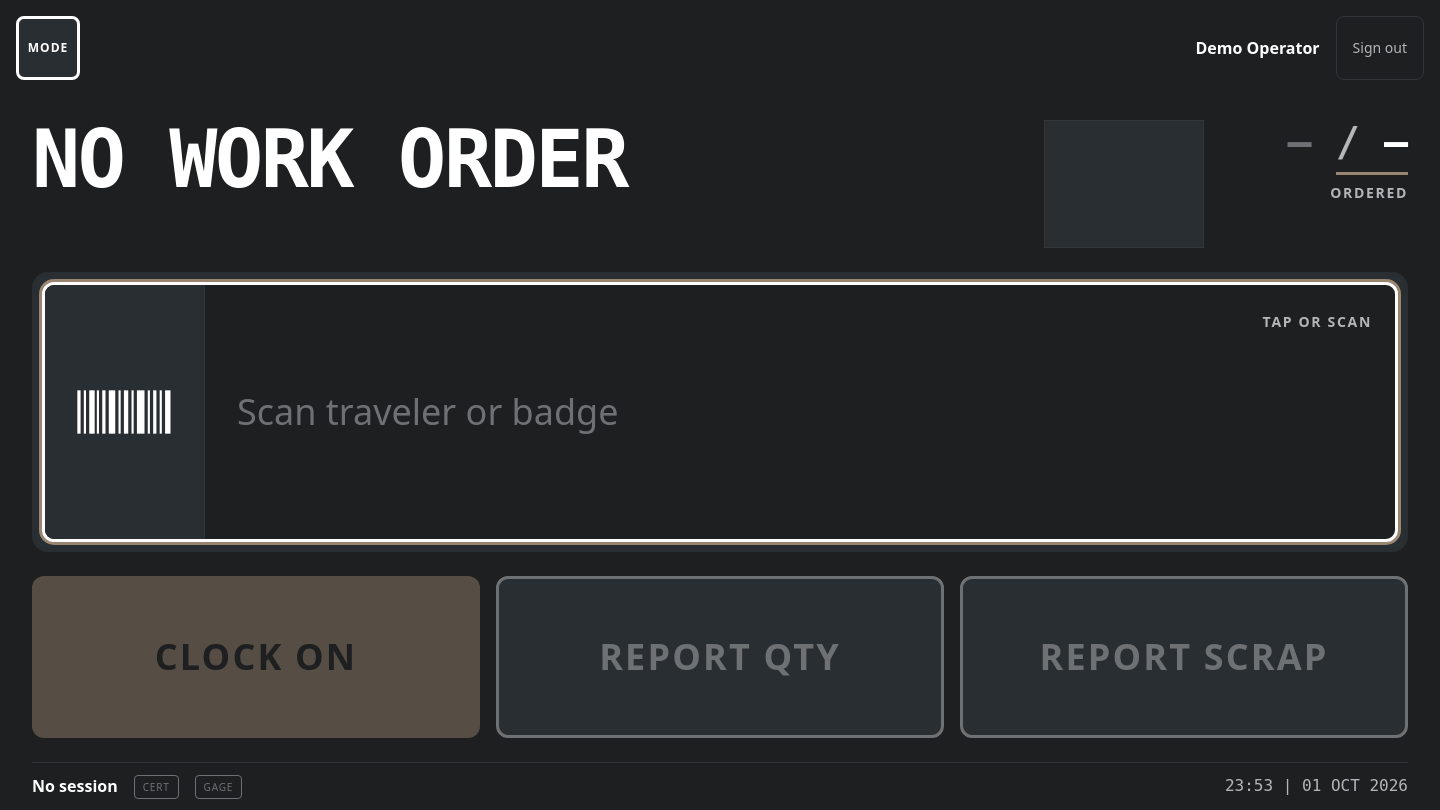
Test: mode chrome › navigates from the floor mode switch to office
The image size is (1440, 810).
Step 1. Click the button "Mode" → (48, 48), box [16, 16, 80, 80]
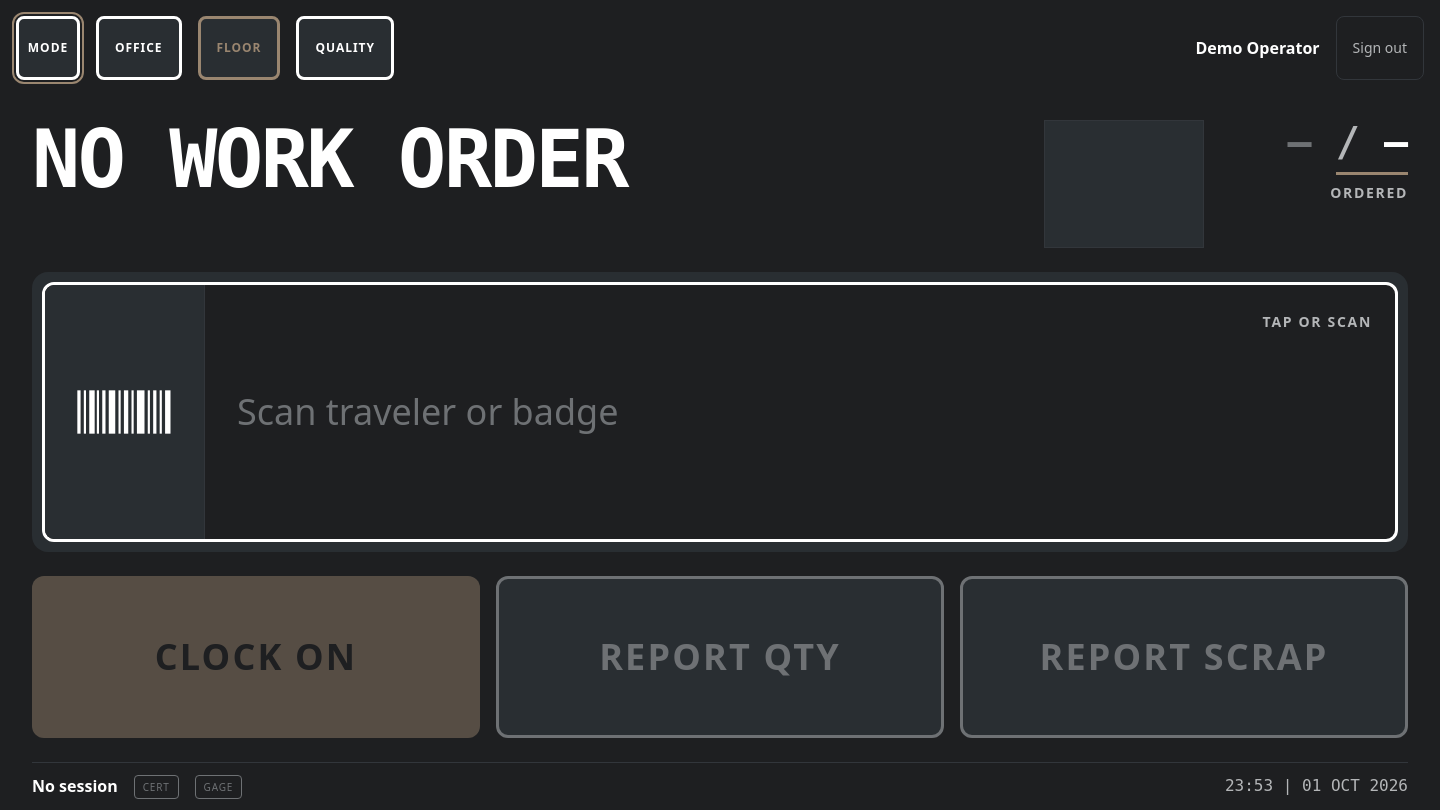
Step 2. Click the link "Office" → (139, 48), box [96, 16, 182, 80]
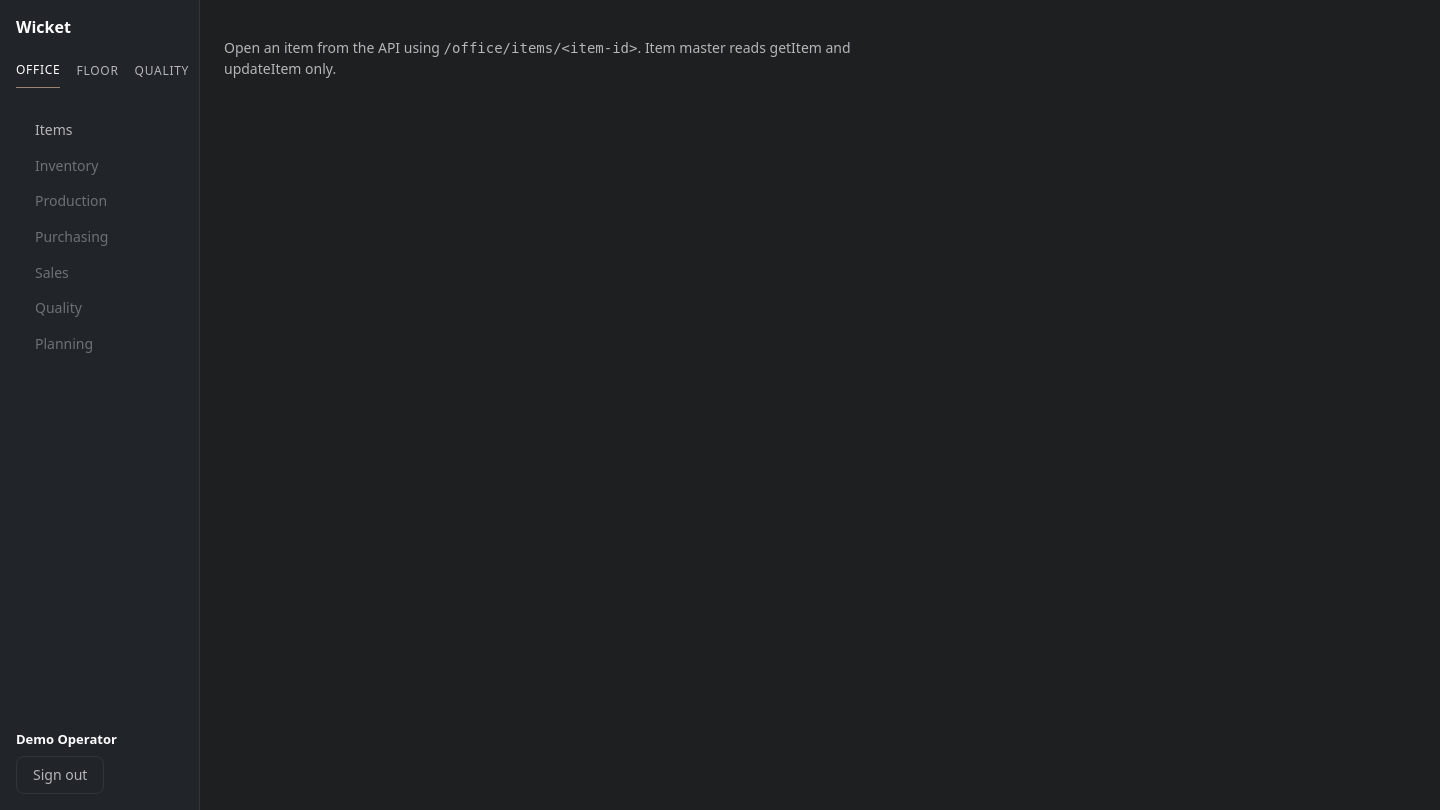
Expected: the navigation bar named "Office modules" is shown, [35, 120, 108, 353]
